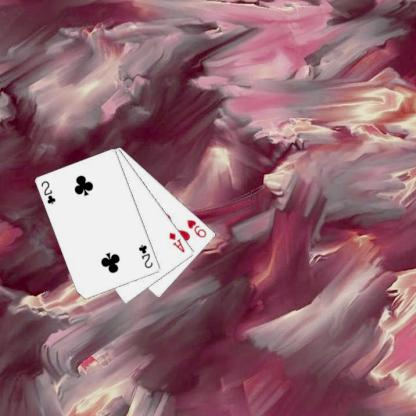2C: (136, 242, 154, 270), (39, 178, 57, 206)
9H: (185, 217, 208, 239)
AD: (166, 229, 186, 254)
